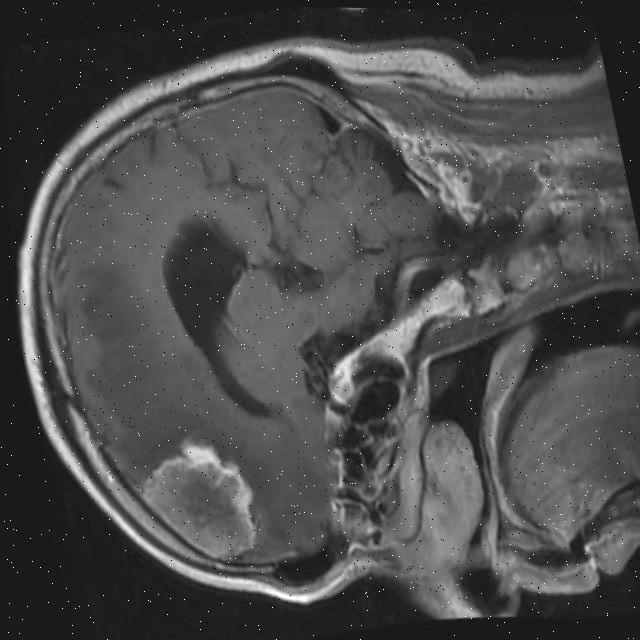Meningioma: (131, 426, 267, 571)
